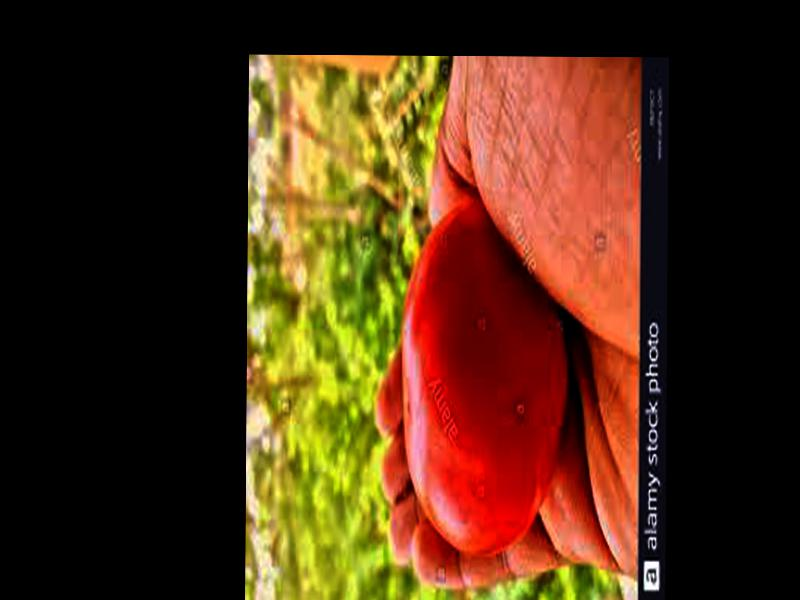Tomato: (402, 207, 567, 553)
